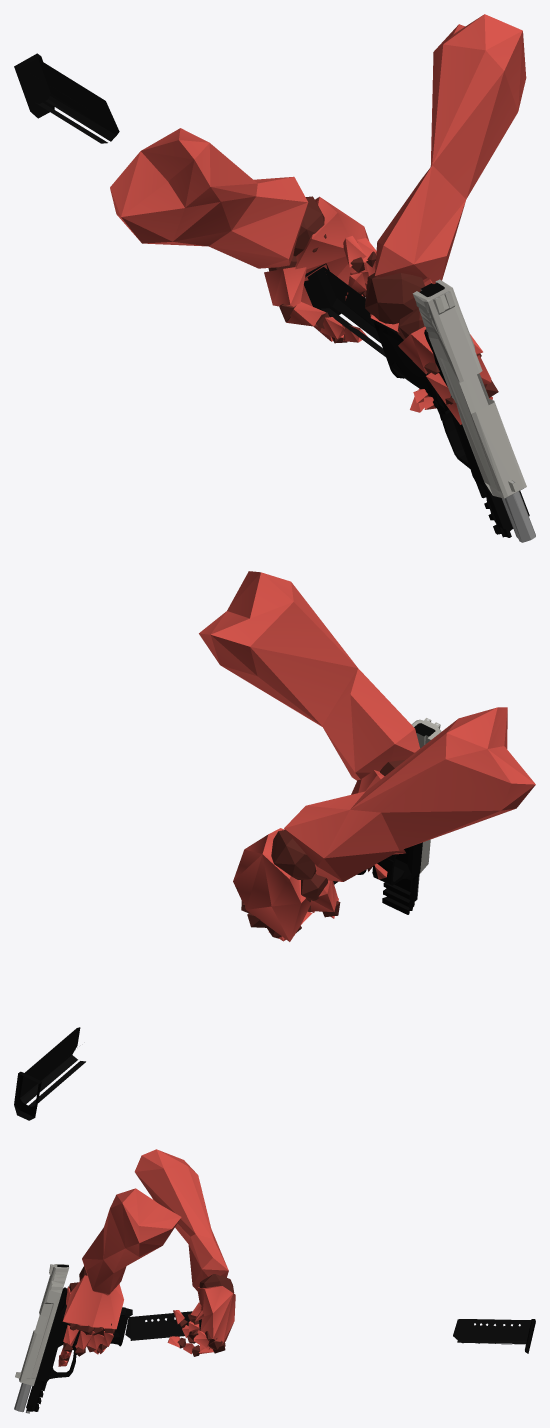
The model's file is M&P9reloadNormal1lowP_000134.obj.
The picture shows the model from 3 angles, top to bottom: view 1: azimuth 30°, elevation 25°; view 2: azimuth 150°, elevation 25°; view 3: azimuth 270°, elevation 25°; orthographic projection. The views are drawn at different scales.
Visible parts, largest first — view 1: Beta_Surface.001_Beta_Surface.002, slide_平面.002, triger_平面.001, Beta_Joints.001_Beta_Joints.002, magazine_平面.003, magazine.002_平面.005; view 2: Beta_Surface.001_Beta_Surface.002, magazine_平面.003, Beta_Joints.001_Beta_Joints.002, triger_平面.001, slide_平面.002; view 3: Beta_Surface.001_Beta_Surface.002, triger_平面.001, slide_平面.002, magazine_平面.003, Beta_Joints.001_Beta_Joints.002, magazine.002_平面.005.
Part boxes in pixels (box(x1,y1,x2,y2)): Beta_Surface.001_Beta_Surface.002: box(110, 14, 526, 424); slide_平面.002: box(412, 279, 526, 498); triger_平面.001: box(374, 320, 535, 542); Beta_Joints.001_Beta_Joints.002: box(268, 196, 498, 404); magazine_平面.003: box(14, 53, 119, 143); magazine.002_平面.005: box(304, 263, 385, 356); Beta_Surface.001_Beta_Surface.002: box(199, 571, 535, 941); magazine_平面.003: box(14, 1027, 85, 1120); Beta_Joints.001_Beta_Joints.002: box(236, 759, 405, 938); triger_平面.001: box(357, 842, 422, 914); slide_平面.002: box(411, 718, 441, 873); Beta_Surface.001_Beta_Surface.002: box(58, 1149, 235, 1366); triger_平面.001: box(14, 1287, 132, 1413); slide_平面.002: box(15, 1264, 69, 1385); magazine_平面.003: box(453, 1319, 535, 1353); Beta_Joints.001_Beta_Joints.002: box(59, 1266, 234, 1361); magazine.002_平面.005: box(125, 1311, 201, 1340).
Size of the model in its own units: 63.32 by 69.19 by 135.
